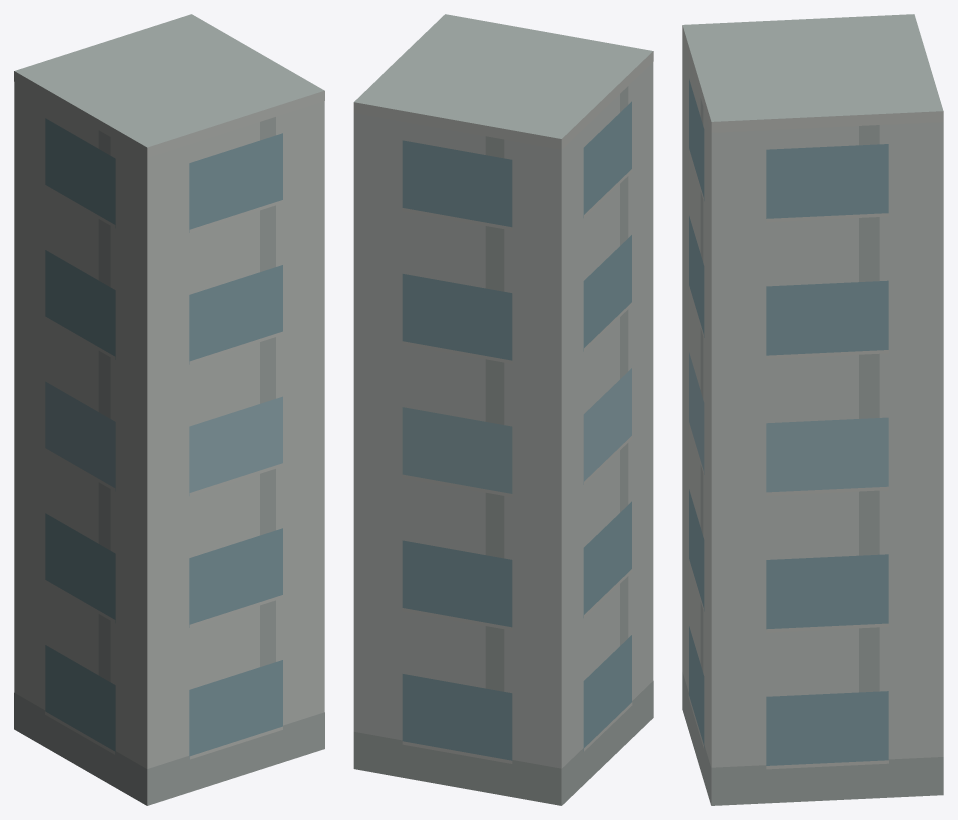
Rendered from survey-upis-32549606.glb.
The picture shows the model from 3 angles, left to right: view 1: azimuth 30°, elevation 25°; view 2: azimuth 150°, elevation 25°; view 3: azimuth 270°, elevation 25°; orthographic projection. The views are drawn at different scales.
Visible parts, largest first — view 1: survey-upis-32549606.tmp; view 2: survey-upis-32549606.tmp; view 3: survey-upis-32549606.tmp.
Part boxes in pixels (box(x1,y1,x2,y2)): survey-upis-32549606.tmp: box(14, 14, 324, 805); survey-upis-32549606.tmp: box(353, 14, 653, 805); survey-upis-32549606.tmp: box(682, 14, 943, 805).
Bounding box in the file's own units: 5.17 × 15.25 × 5.29.
